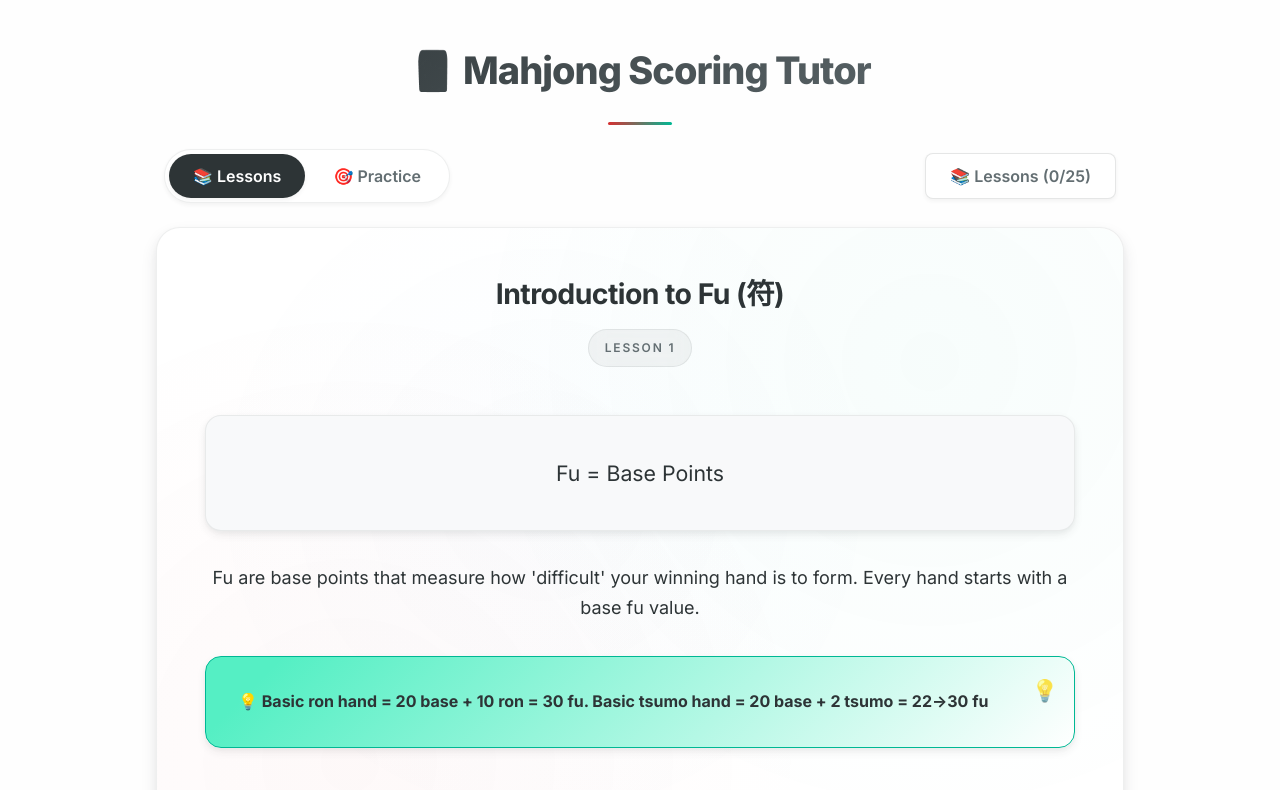
Test: App Integration › should switch to practice mode when practice button is clicked
The width and height of the screenshot is (1280, 790).
Click the button "🎯 Practice" at (377, 176), box 309,154 -> 445,198
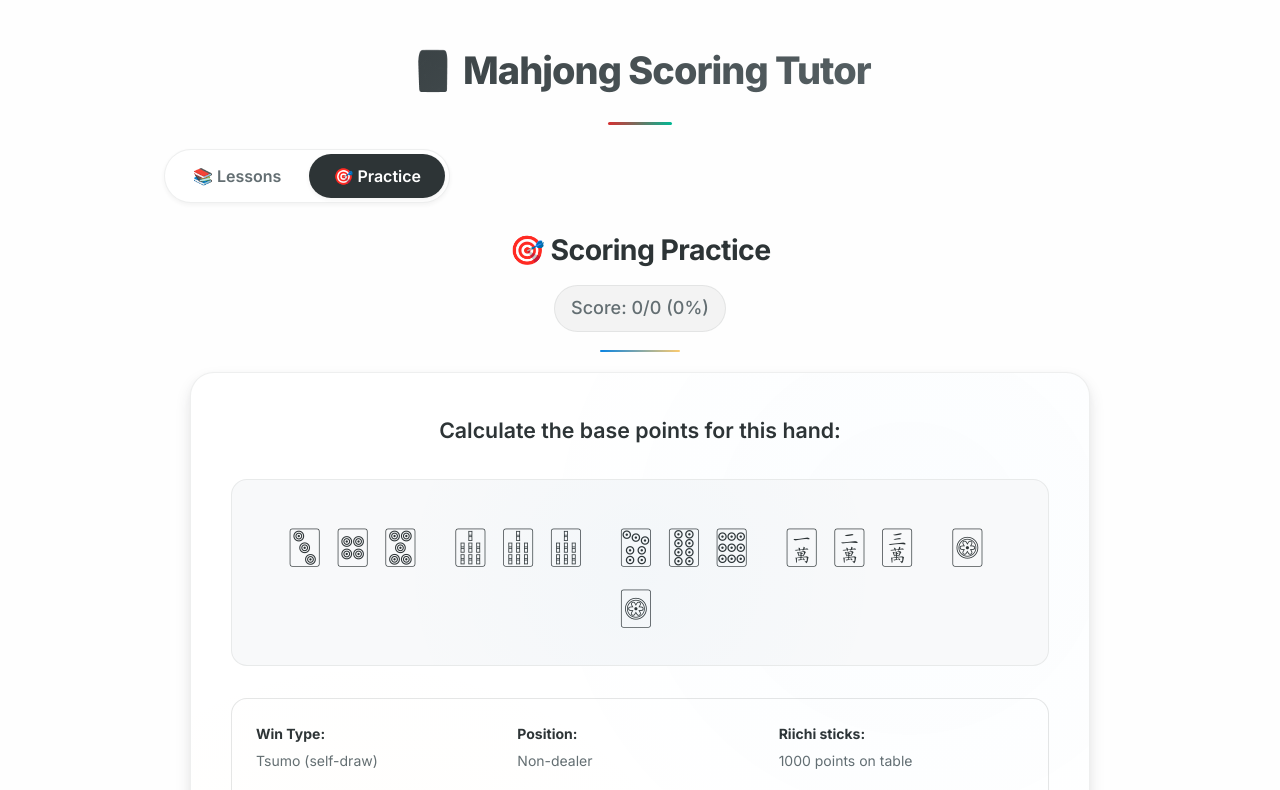
Now the heading "🎯 Scoring Practice" is shown, box 509,232 -> 770,268
